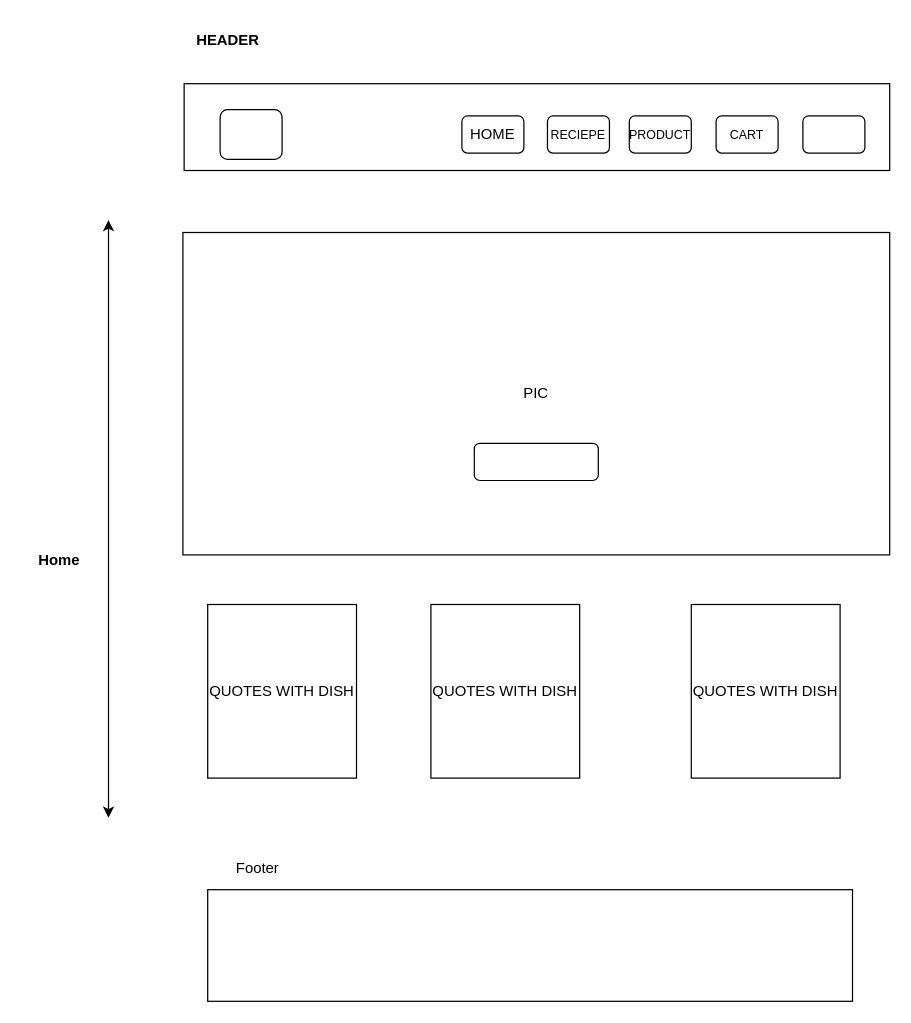
Image size: 911x1023. Some labels were removed from this diagram. Each missing label, with the centre of its shape:
"Address with contact" belongs at (529,944).
"logo" belongs at (250,133).
"PRODUCTS" belongs at (535,461).
"PROFILE" belongs at (833,134).
